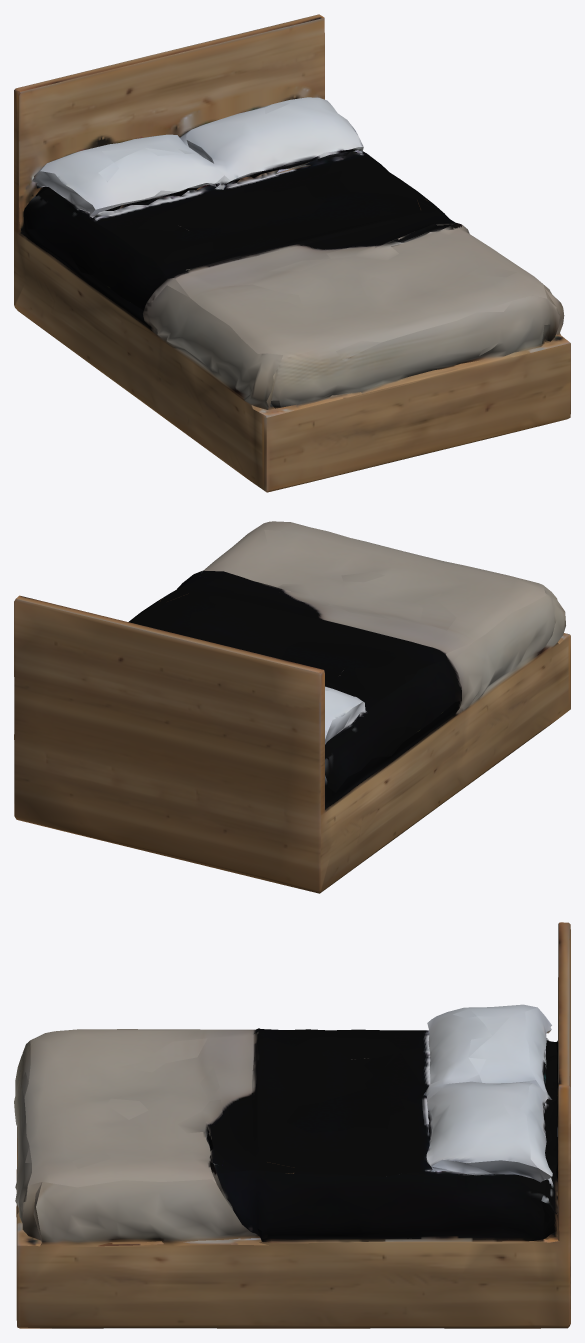
The model's file is LitDouble2_3D_textured.glb.
The picture shows the model from 3 angles, top to bottom: view 1: azimuth 30°, elevation 25°; view 2: azimuth 150°, elevation 25°; view 3: azimuth 270°, elevation 25°; orthographic projection. The views are drawn at different scales.
Parts seen in each view (by area): view 1: temp_mesh.ply; view 2: temp_mesh.ply; view 3: temp_mesh.ply.
Part boxes in pixels (x1,y1,x2,y2): temp_mesh.ply: (14,14,570,492); temp_mesh.ply: (14,521,570,893); temp_mesh.ply: (14,922,570,1328).
Size of the model in its own units: 1.42 by 0.9553 by 1.97.
Materials: 1 (1 with a texture image).
